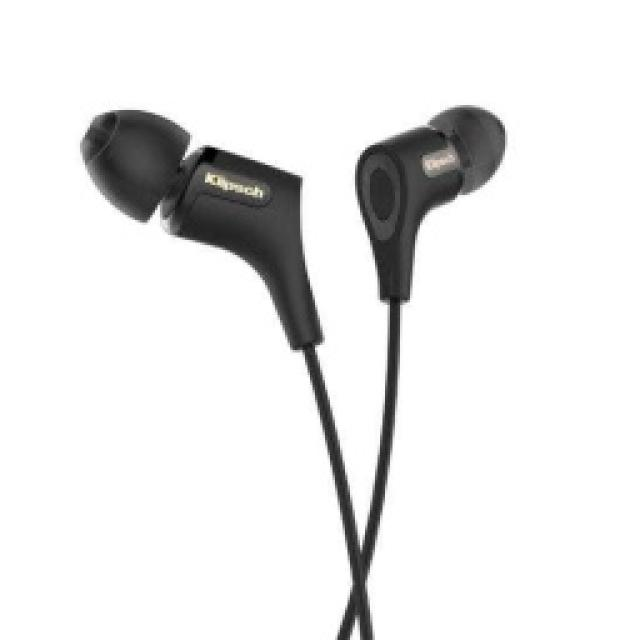headphones: (78, 100, 508, 638)
